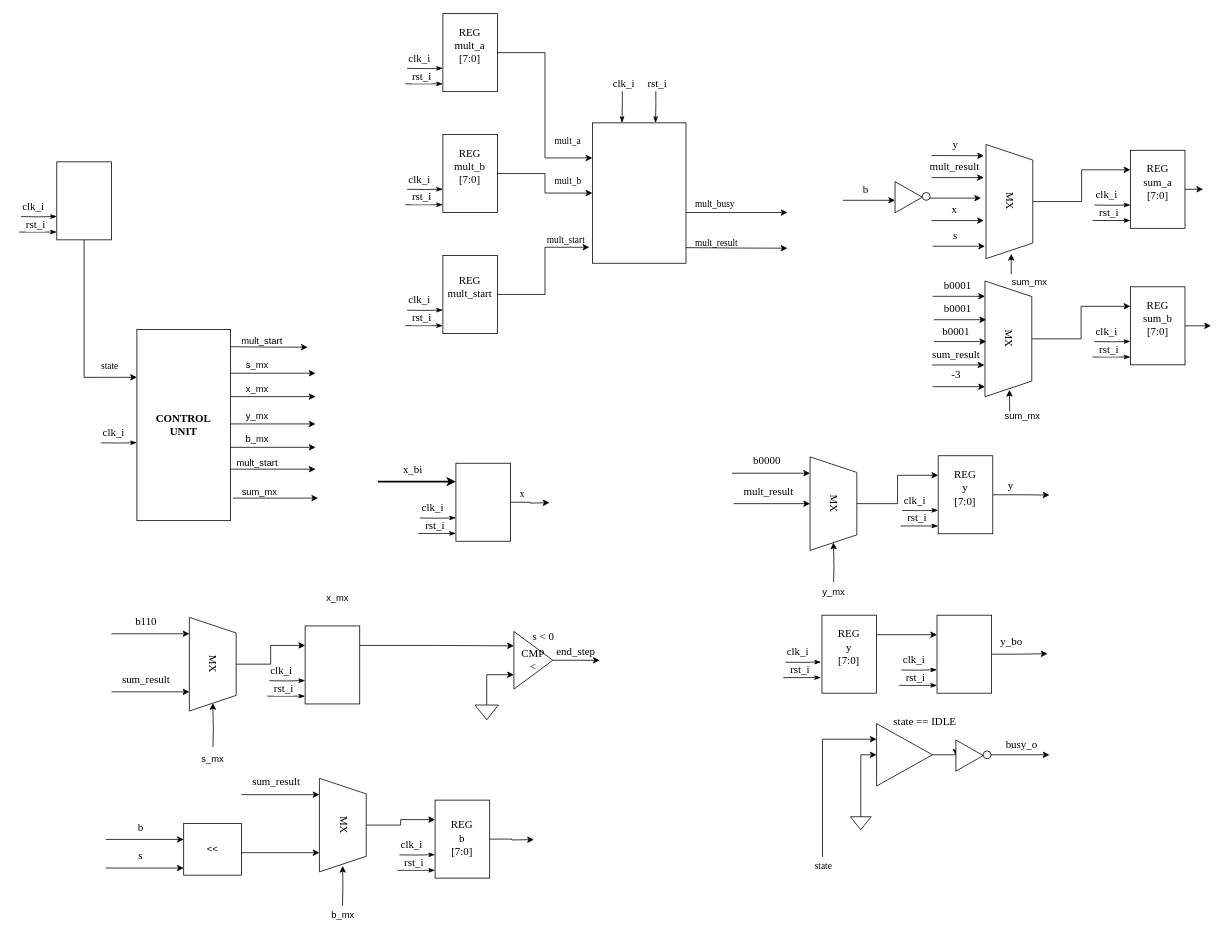
This 1231x941 diagram has some shape labels left out. The centre of each missing label's shape, as x and y in pixels:
CMP ==: pixel 904 754
MULTIPLIER: pixel 639 192
REG s [7:0]: pixel 332 664
REG state [4:0]: pixel 83 200
REG x [7:0]: pixel 483 501
REG y_bo [4:0]: pixel 964 653
